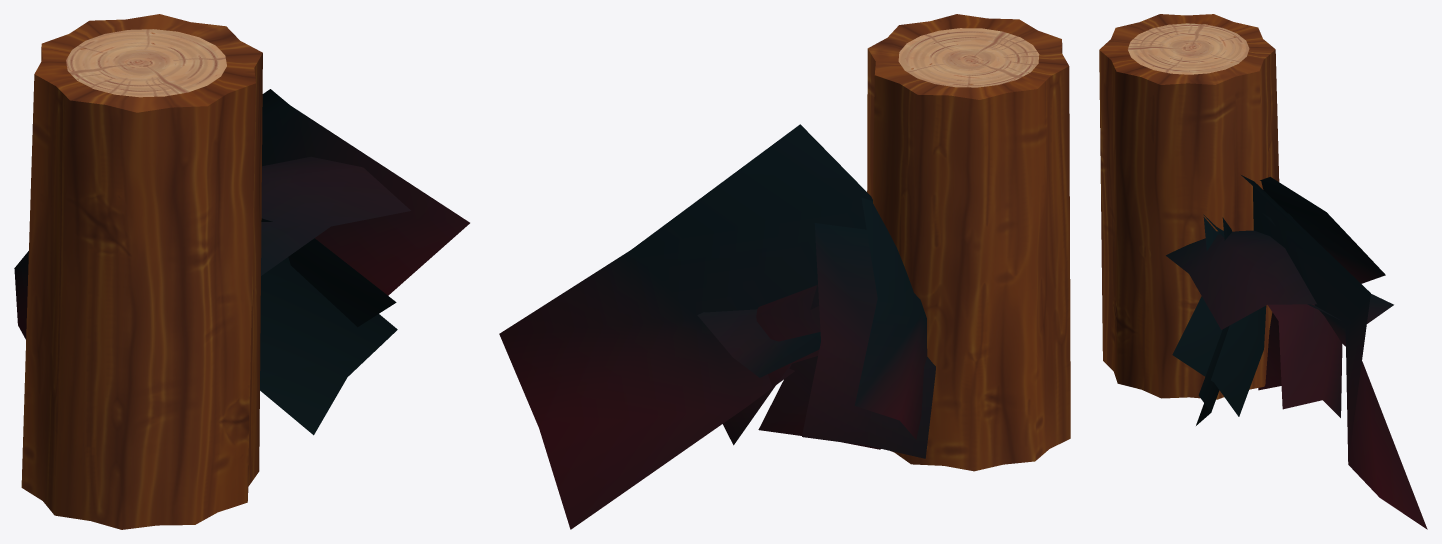
File: obj_harvests_trees_pine03_p06.fbx
3 renders of one model, left to right at view 1: azimuth 30°, elevation 25°; view 2: azimuth 150°, elevation 25°; view 3: azimuth 270°, elevation 25°, orthographic. The views are drawn at different scales.
Visible parts, largest first — view 1: chunk06; view 2: chunk06; view 3: chunk06.
Boxes of the visible parts, x1,y1,x2,y2 form: chunk06: [14, 14, 469, 529]; chunk06: [499, 14, 1070, 529]; chunk06: [1099, 14, 1427, 529].
Bounding box in the file's own units: 10.69 × 9.46 × 7.57.
